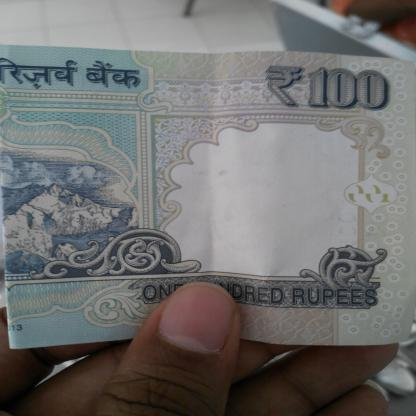Old100Back: (0, 42, 416, 352)
